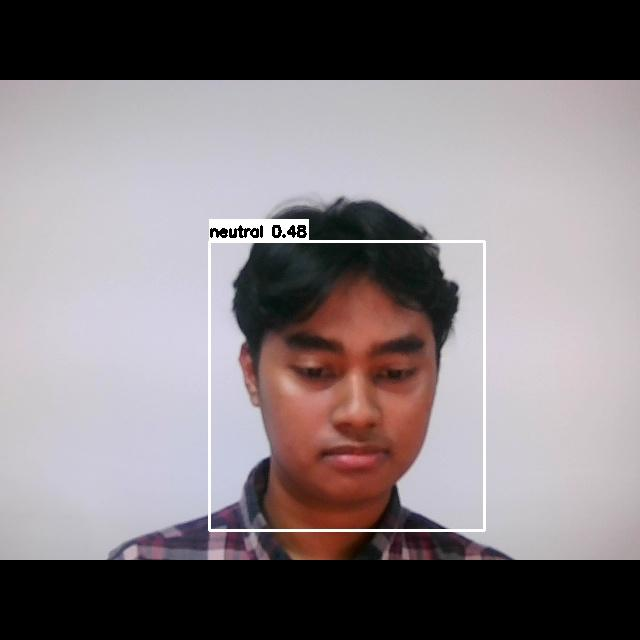Natural: (242, 298, 441, 493)
